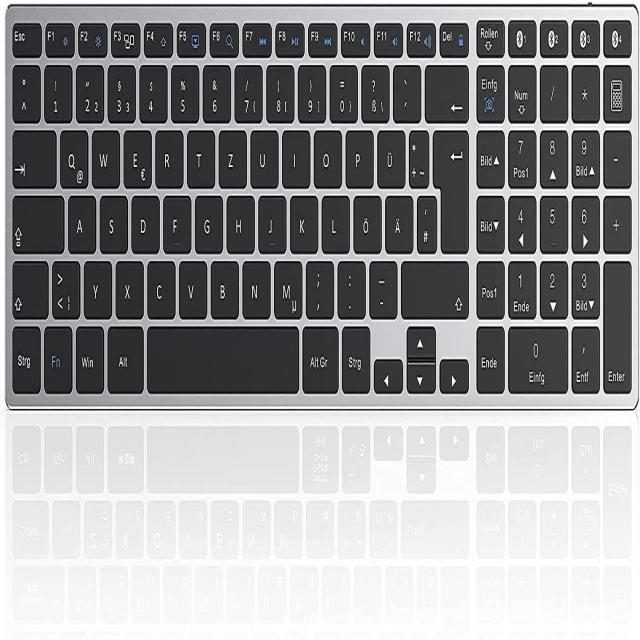0: (327, 60, 357, 120)
1: (42, 60, 71, 119)
2: (73, 60, 103, 119)
3: (105, 60, 135, 120)
4: (138, 60, 166, 119)
5: (169, 61, 198, 120)
6: (201, 60, 231, 120)
7: (233, 60, 262, 120)
8: (264, 60, 294, 120)
9: (295, 60, 325, 120)
a: (66, 190, 94, 250)
accent: (391, 60, 420, 119)
ae: (383, 190, 412, 251)
alt-left: (105, 319, 142, 391)
altgr-right: (300, 319, 337, 391)
b: (208, 255, 238, 315)
c: (145, 255, 175, 316)
caret: (10, 60, 38, 119)
comma: (304, 255, 333, 315)
d: (129, 190, 158, 251)
del: (423, 59, 468, 120)
e: (121, 125, 150, 186)
enter: (431, 125, 468, 251)
f: (161, 190, 189, 250)
g: (193, 190, 222, 251)
h: (224, 190, 253, 250)
hash: (415, 190, 436, 250)
i: (280, 124, 309, 184)
j: (256, 190, 285, 251)
k: (288, 190, 317, 251)
keyboard: (0, 5, 638, 410)
l: (320, 190, 348, 250)
less: (49, 255, 79, 315)
m: (271, 254, 301, 316)
minus: (367, 255, 397, 315)
n: (240, 255, 269, 316)
o: (311, 125, 341, 185)
oe: (351, 191, 380, 250)
p: (344, 125, 372, 184)
plus: (407, 125, 428, 185)
point: (335, 256, 364, 314)
q: (57, 125, 87, 186)
r: (153, 125, 182, 185)
s: (97, 190, 126, 251)
shift-left: (9, 255, 47, 316)
shift-lock: (10, 190, 63, 250)
shift-right: (399, 254, 468, 316)
space: (145, 320, 297, 392)
ss: (360, 60, 389, 120)
strg-left: (10, 319, 40, 391)
strg-right: (340, 319, 369, 391)
t: (185, 124, 213, 184)
tab: (10, 124, 55, 185)
u: (248, 125, 277, 185)
ue: (375, 124, 404, 185)
v: (177, 254, 206, 316)
w: (89, 124, 118, 185)
x: (114, 255, 143, 315)
y: (81, 255, 111, 315)
z: (216, 125, 246, 185)
